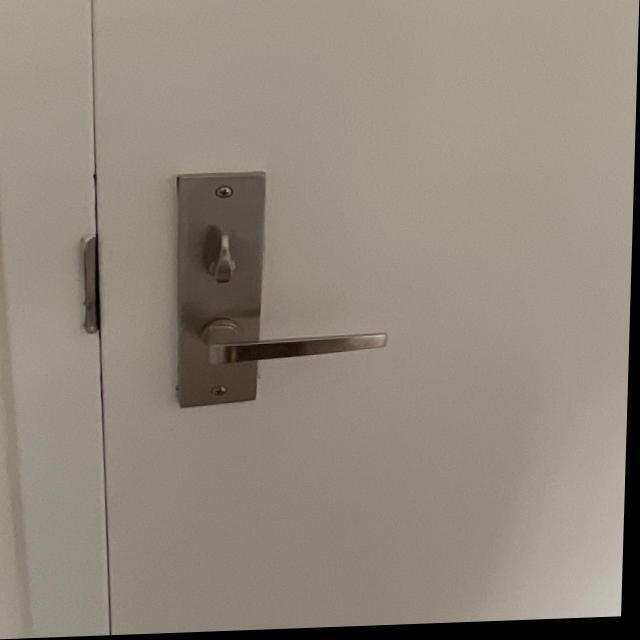door_handle: (176, 300, 414, 387)
